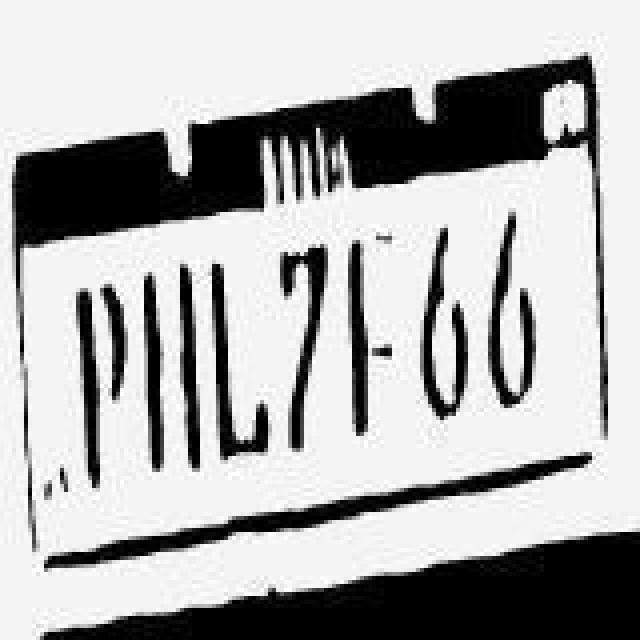6: (414, 218, 474, 422), (490, 206, 542, 410)
7: (278, 236, 330, 452)
F: (336, 220, 408, 436)
H: (138, 262, 206, 482)
L: (206, 260, 274, 460)
P: (60, 278, 132, 490)
